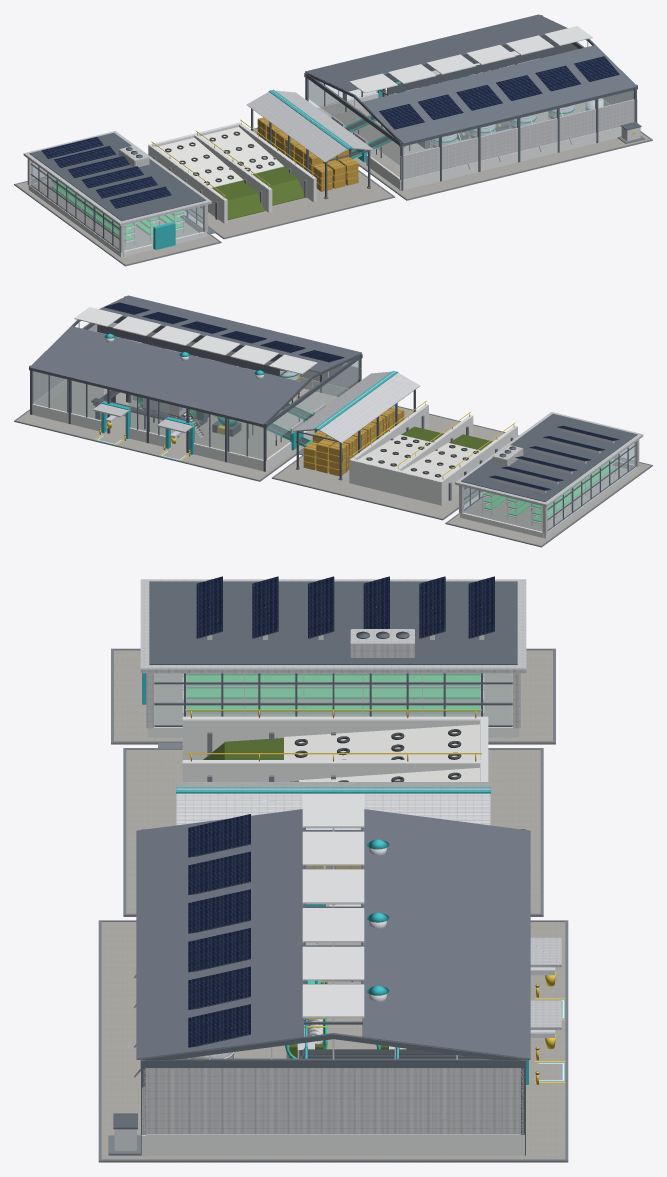
Rendered from g_tmr_kitchen.glb.
3 views of the same model, one above another, from view 1: azimuth 30°, elevation 25°; view 2: azimuth 150°, elevation 25°; view 3: azimuth 270°, elevation 25° (orthographic). The views are drawn at different scales.
Parts seen in each view (by area): view 1: G_Aprons_Roads_Mat_ConcreteApron, G_TMR_Structure_Mat_CladdingWhite, G_PlantFactory_Mat_SteelDark, G_TMR_Structure_Mat_SteelDark, G_TMR_Structure_Mat_GlassClear, G_PlantFactory_Mat_SolarPanel, G_Silage_HayBarn_Mat_CladdingWhite, G_Silage_HayBarn_Mat_PrecastWall, G_Silage_HayBarn_Mat_TarpWhite, G_PlantFactory_Mat_GlassClear, G_TMR_Structure_Mat_PrecastWall, G_Silage_HayBarn_Mat_HayBale (+38 smaller); view 2: G_Aprons_Roads_Mat_ConcreteApron, G_TMR_Structure_Mat_GlassClear, G_PlantFactory_Mat_SteelDark, G_Silage_HayBarn_Mat_PrecastWall, G_TMR_Structure_Mat_SteelDark, G_PlantFactory_Mat_GlassClear, G_Silage_HayBarn_Mat_CladdingWhite, G_TMR_Structure_Mat_PrecastWall, G_Silage_HayBarn_Mat_HayBale, G_Silage_HayBarn_Mat_TarpWhite, G_PlantFactory_Mat_CladdingWhite, G_Cutaway_HallRoofN_2 (+33 smaller); view 3: G_Aprons_Roads_Mat_ConcreteApron, G_TMR_Structure_Mat_CladdingWhite, G_PlantFactory_Mat_SteelDark, G_PlantFactory_Mat_GlassClear, G_Silage_HayBarn_Mat_PrecastWall, G_Silage_HayBarn_Mat_CladdingWhite, G_PlantFactory_Mat_SolarPanel, G_PlantFactory_Mat_FodderGreen, G_PlantFactory_Mat_CladdingWhite, G_TMR_Structure_Mat_PrecastWall, G_TMR_Structure_Mat_SteelDark, G_Aprons_Roads_Mat_ConcreteCurb (+32 smaller).
Part boxes in pixels (box(x1,y1,x2,y2)): G_Aprons_Roads_Mat_ConcreteApron: box(16, 91, 652, 266); G_TMR_Structure_Mat_CladdingWhite: box(331, 41, 637, 179); G_PlantFactory_Mat_SteelDark: box(29, 132, 205, 249); G_TMR_Structure_Mat_SteelDark: box(304, 15, 637, 190); G_TMR_Structure_Mat_GlassClear: box(307, 51, 633, 165); G_PlantFactory_Mat_SolarPanel: box(41, 137, 171, 208); G_Silage_HayBarn_Mat_CladdingWhite: box(246, 90, 374, 162); G_Silage_HayBarn_Mat_PrecastWall: box(148, 122, 316, 223); G_Silage_HayBarn_Mat_TarpWhite: box(156, 127, 284, 187); G_PlantFactory_Mat_GlassClear: box(31, 161, 202, 250); G_TMR_Structure_Mat_PrecastWall: box(317, 57, 637, 190); G_Silage_HayBarn_Mat_HayBale: box(257, 117, 358, 191); G_Aprons_Roads_Mat_ConcreteApron: box(14, 382, 650, 547); G_TMR_Structure_Mat_GlassClear: box(33, 360, 359, 459); G_PlantFactory_Mat_SteelDark: box(461, 413, 637, 530); G_Silage_HayBarn_Mat_PrecastWall: box(349, 404, 517, 505); G_TMR_Structure_Mat_SteelDark: box(29, 296, 362, 471); G_PlantFactory_Mat_GlassClear: box(464, 442, 635, 531); G_Silage_HayBarn_Mat_CladdingWhite: box(292, 371, 420, 443); G_TMR_Structure_Mat_PrecastWall: box(32, 338, 349, 471); G_Silage_HayBarn_Mat_HayBale: box(303, 407, 404, 476); G_Silage_HayBarn_Mat_TarpWhite: box(358, 434, 479, 479); G_PlantFactory_Mat_CladdingWhite: box(455, 412, 643, 533); G_Cutaway_HallRoofN_2: box(146, 355, 227, 406); G_Aprons_Roads_Mat_ConcreteApron: box(99, 650, 567, 1162); G_TMR_Structure_Mat_CladdingWhite: box(142, 1068, 523, 1134); G_PlantFactory_Mat_SteelDark: box(149, 581, 517, 726); G_PlantFactory_Mat_GlassClear: box(155, 673, 511, 724); G_Silage_HayBarn_Mat_PrecastWall: box(182, 716, 488, 781); G_Silage_HayBarn_Mat_CladdingWhite: box(176, 782, 490, 830); G_PlantFactory_Mat_SolarPanel: box(196, 576, 494, 638); G_PlantFactory_Mat_FodderGreen: box(186, 674, 480, 712); G_PlantFactory_Mat_CladdingWhite: box(140, 579, 526, 728); G_TMR_Structure_Mat_PrecastWall: box(141, 904, 524, 1156); G_TMR_Structure_Mat_SteelDark: box(140, 827, 526, 1155); G_Aprons_Roads_Mat_ConcreteCurb: box(98, 648, 568, 1161).
Size of the model in its own units: 98 by 12.26 by 38.
Materials: 24 (8 with a texture image).
